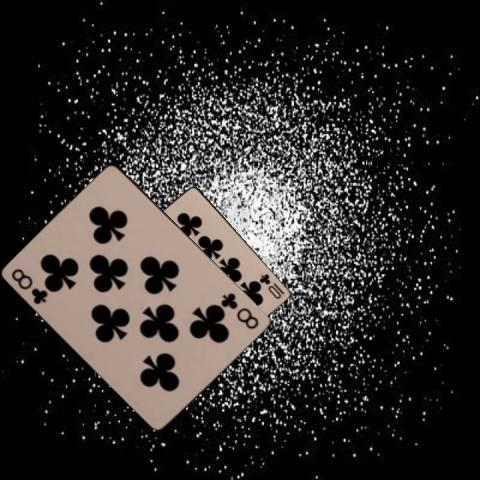10c: (257, 270, 286, 300)
8c: (218, 289, 260, 331), (9, 265, 50, 306)
